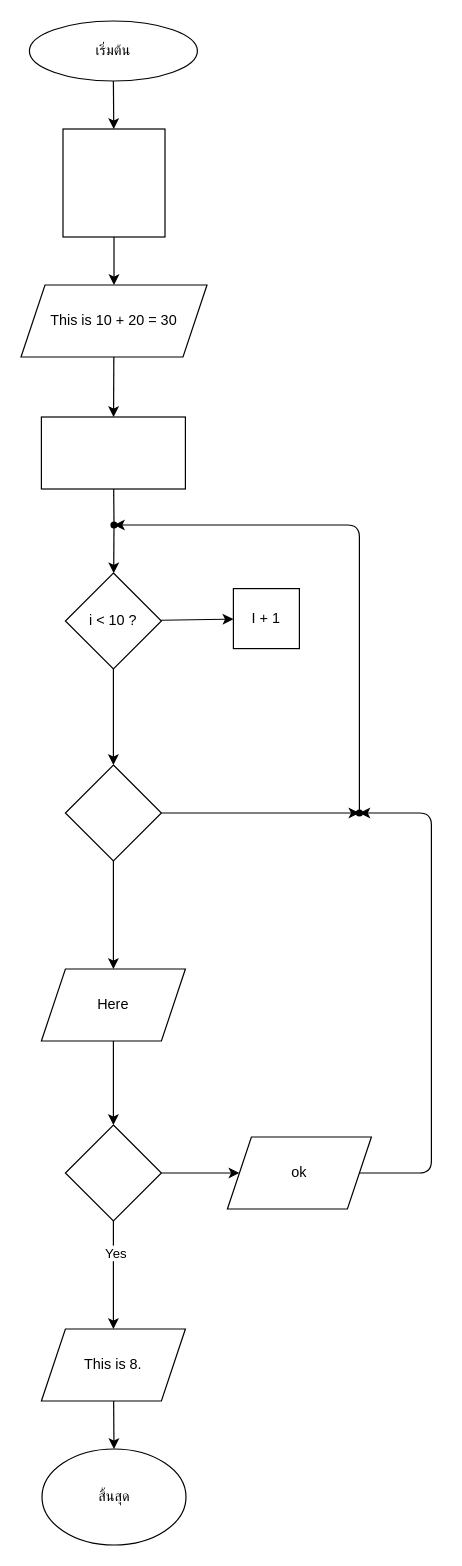
This 462x1566 diagram has some shape labels left out. The shapes that lost their labels are listed below. From the top down, each one's centre as x and y in pixels, then its label:
At (x=113, y=182): "ประกาศตัวแปร a = 10 b = 20 c = 30 d = 40".
At (x=112, y=452): "ตัวแปร i =0".
At (x=112, y=812): "i < 30 ?".
At (x=112, y=1172): "i = 8 ?".
